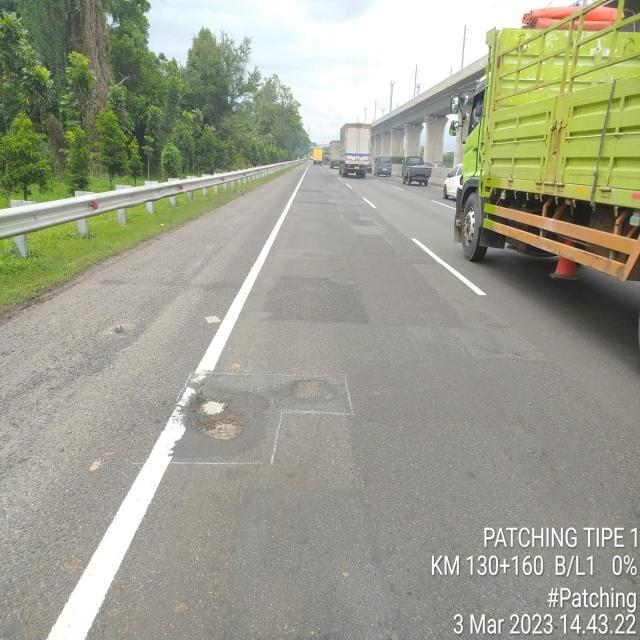Buraco: (186, 389, 250, 443), (286, 377, 326, 402)
